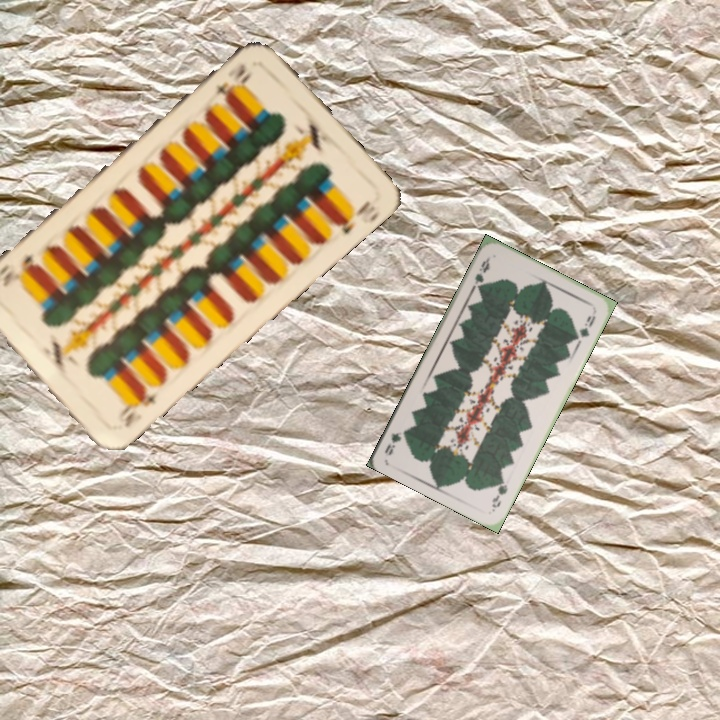E10: (114, 385, 159, 430), (210, 59, 249, 102)
G9: (469, 253, 493, 293), (488, 475, 510, 513)
